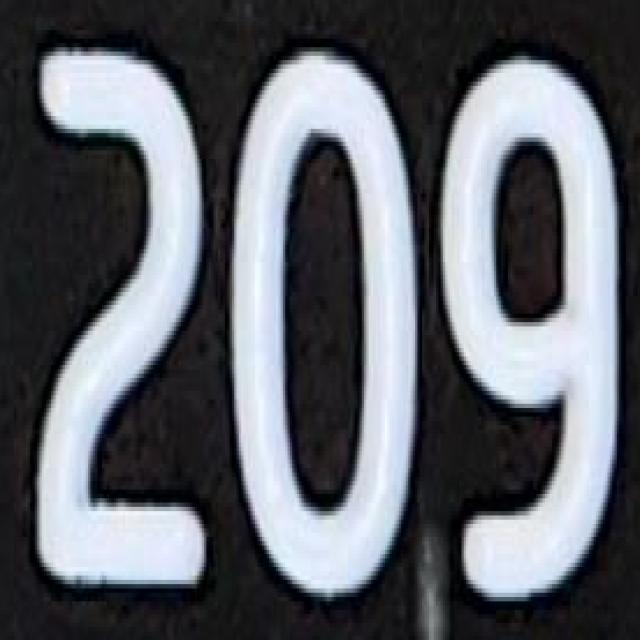character: (223, 43, 426, 607), (434, 44, 630, 609), (29, 42, 214, 607)
